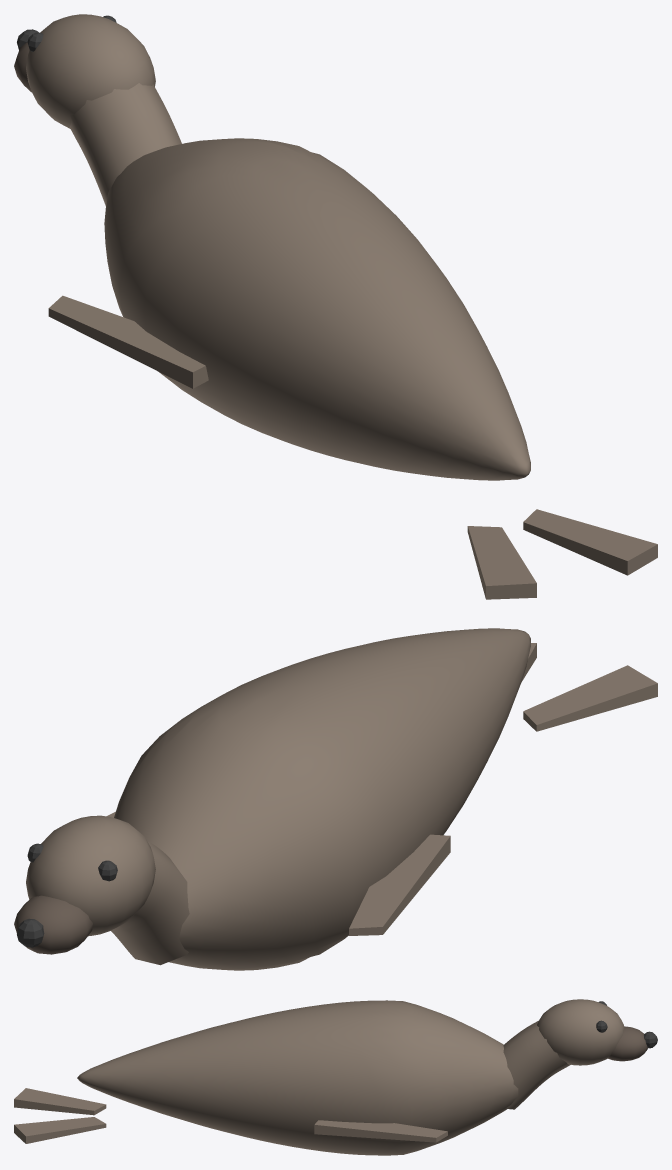
File: sealion_swim.glb
3 renders of one model, top to bottom at view 1: azimuth 30°, elevation 25°; view 2: azimuth 150°, elevation 25°; view 3: azimuth 270°, elevation 25°, orthographic. The views are drawn at different scales.
Visible parts, largest first — view 1: sealion_swim; view 2: sealion_swim; view 3: sealion_swim.
Boxes of the visible parts, box(x1,y1,x2,y2) form: sealion_swim: box(14, 14, 657, 599); sealion_swim: box(14, 628, 657, 970); sealion_swim: box(14, 999, 657, 1155).
Size of the model in its own units: 1.06 by 0.7641 by 3.07.
